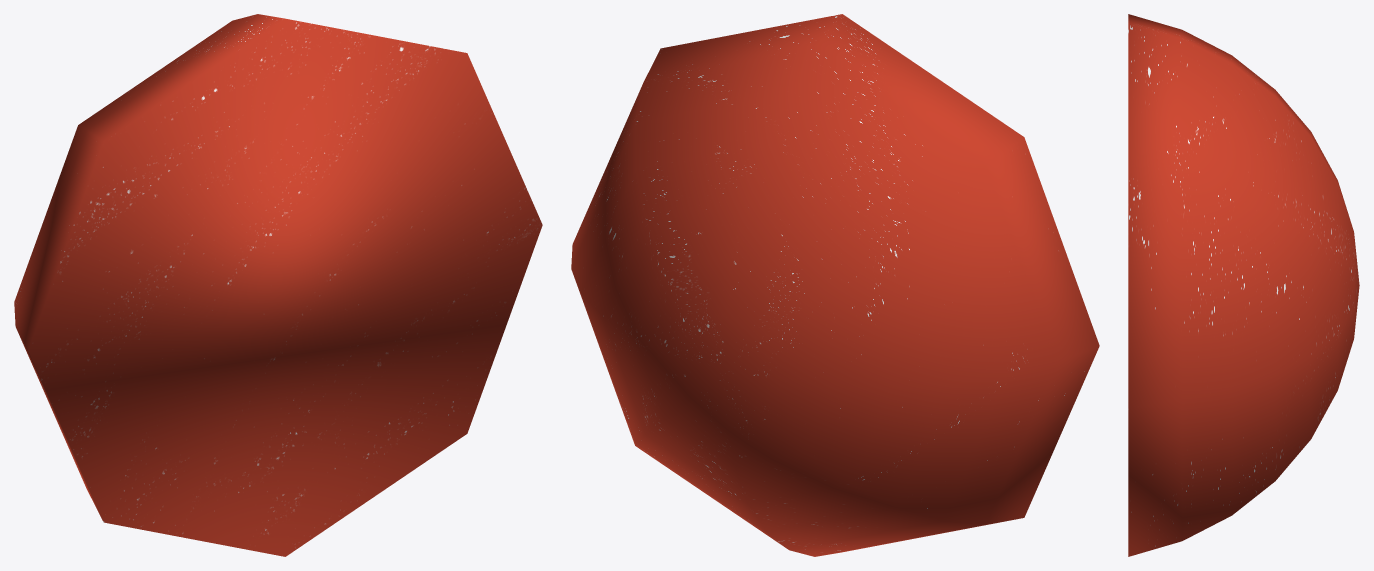
The model's file is button.fbx.
3 renders of one model, left to right at view 1: azimuth 30°, elevation 25°; view 2: azimuth 150°, elevation 25°; view 3: azimuth 270°, elevation 25°, orthographic. The views are drawn at different scales.
Parts seen in each view (by area): view 1: 球體.002; view 2: 球體.002; view 3: 球體.002.
Boxes of the visible parts, box(x1,y1,x2,y2) form: 球體.002: box(14, 14, 542, 556); 球體.002: box(571, 14, 1099, 556); 球體.002: box(1128, 14, 1359, 556).
Bounding box in the file's own units: 20 × 20 × 8.
